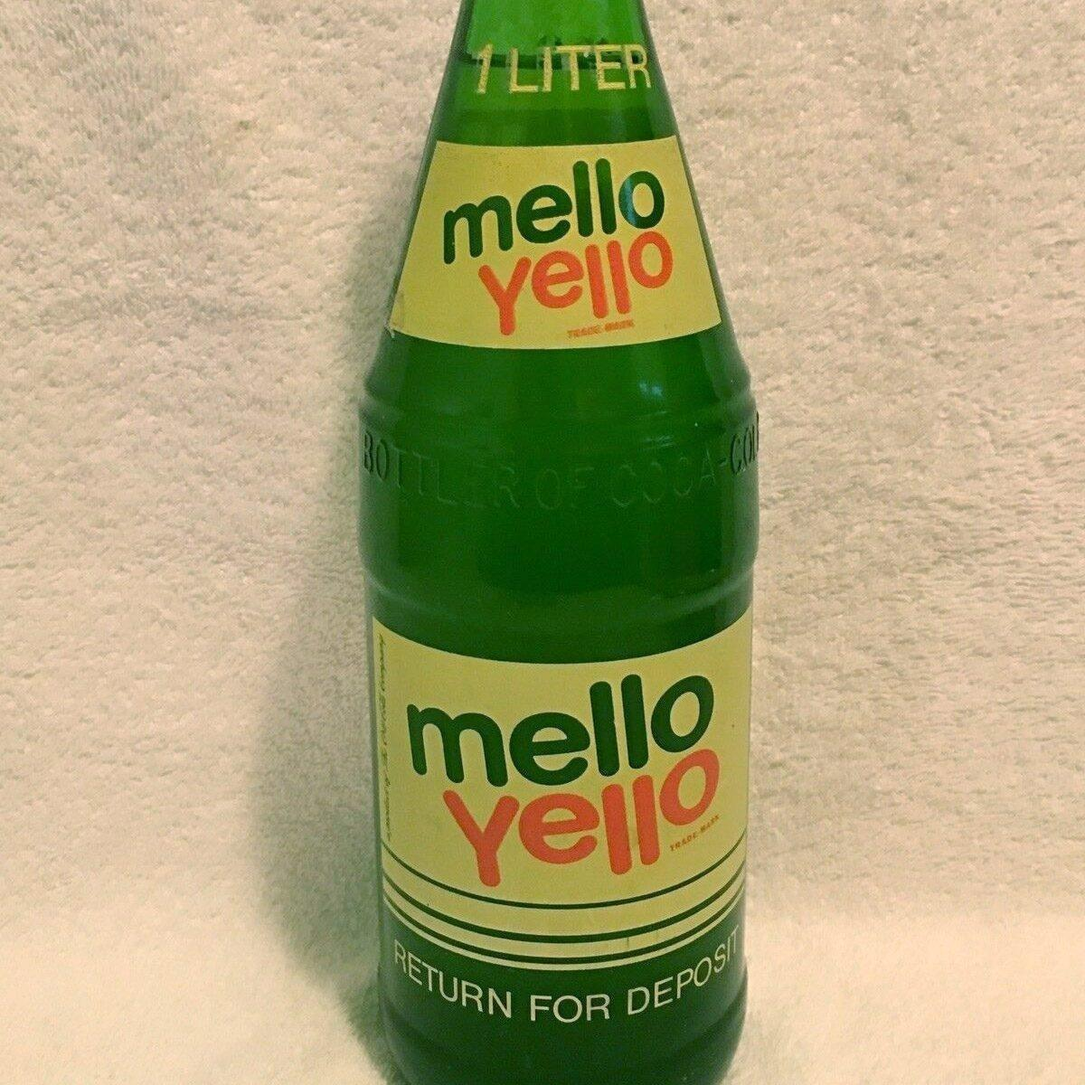bottle-glass: (344, 0, 770, 1084)
